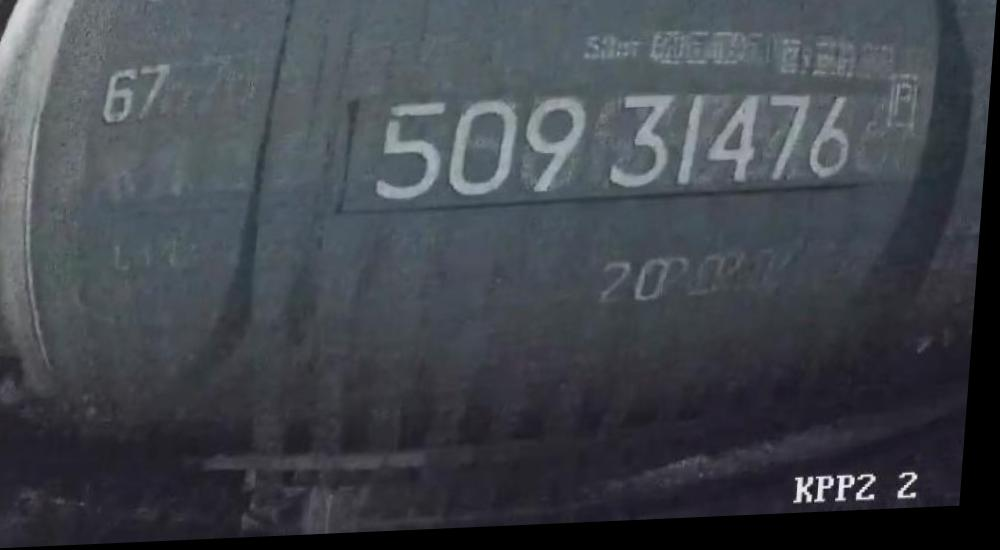Wagon-number: (367, 78, 867, 212)
